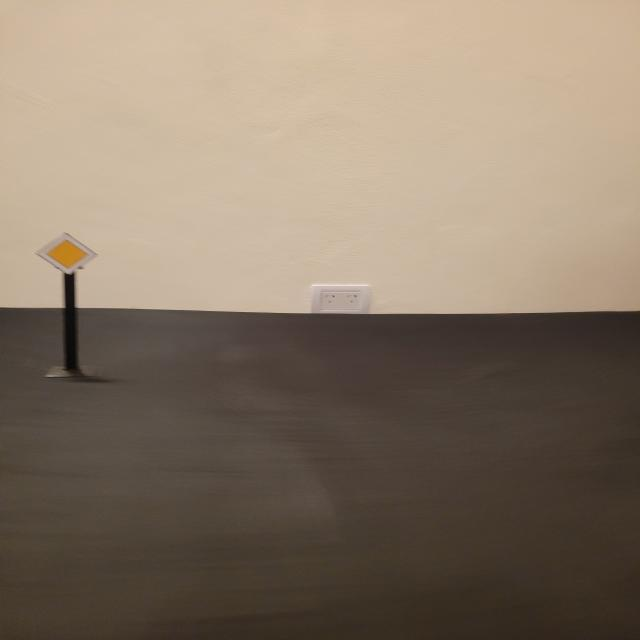priority: (34, 232, 98, 274)
